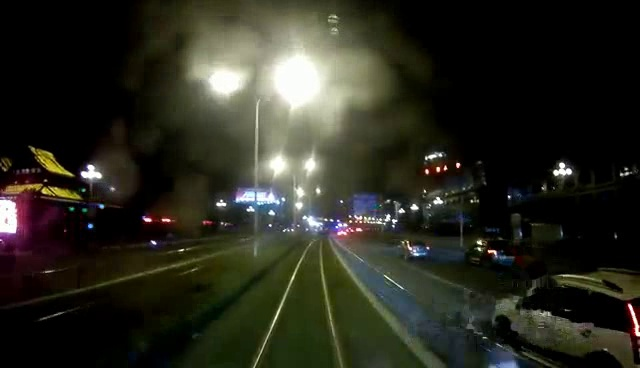car: (483, 268, 640, 368), (465, 235, 515, 267), (392, 238, 429, 260)
